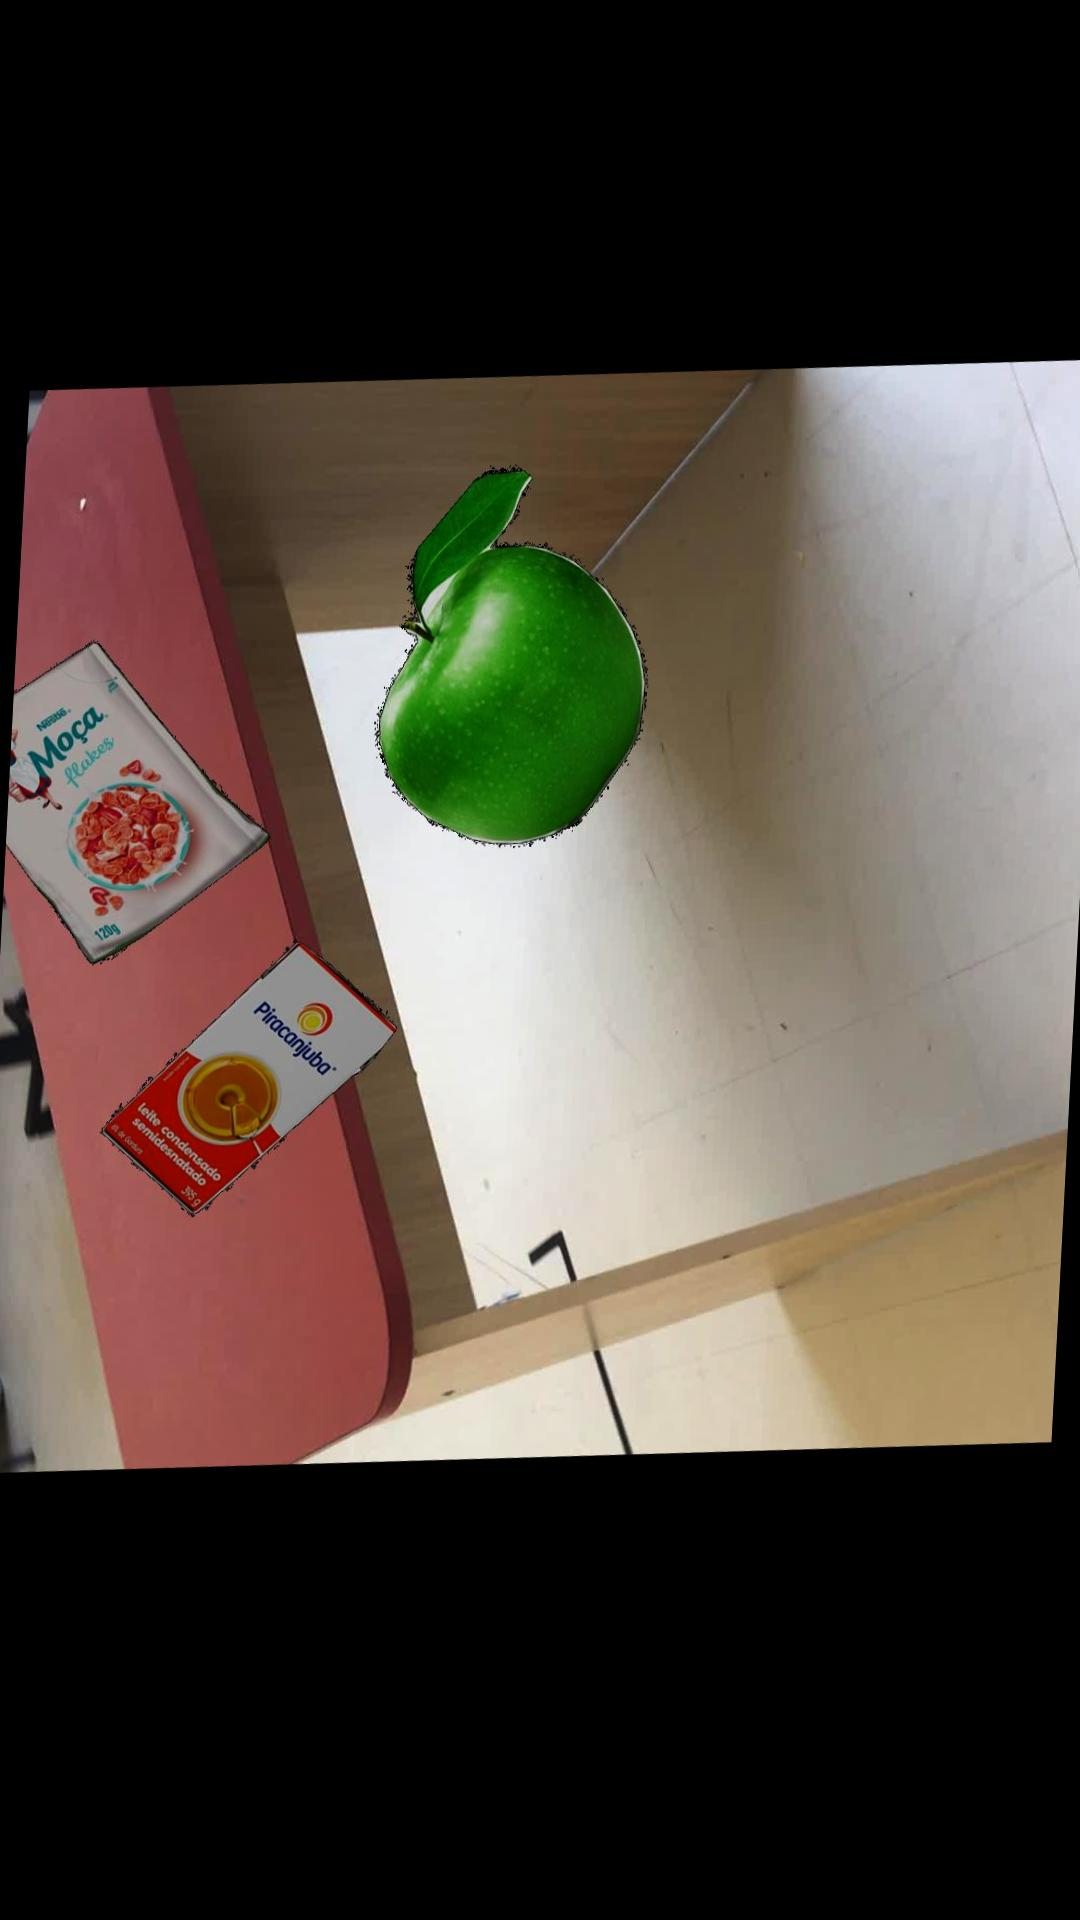corn flakes: (5, 645, 268, 967)
green apple: (372, 476, 645, 857)
